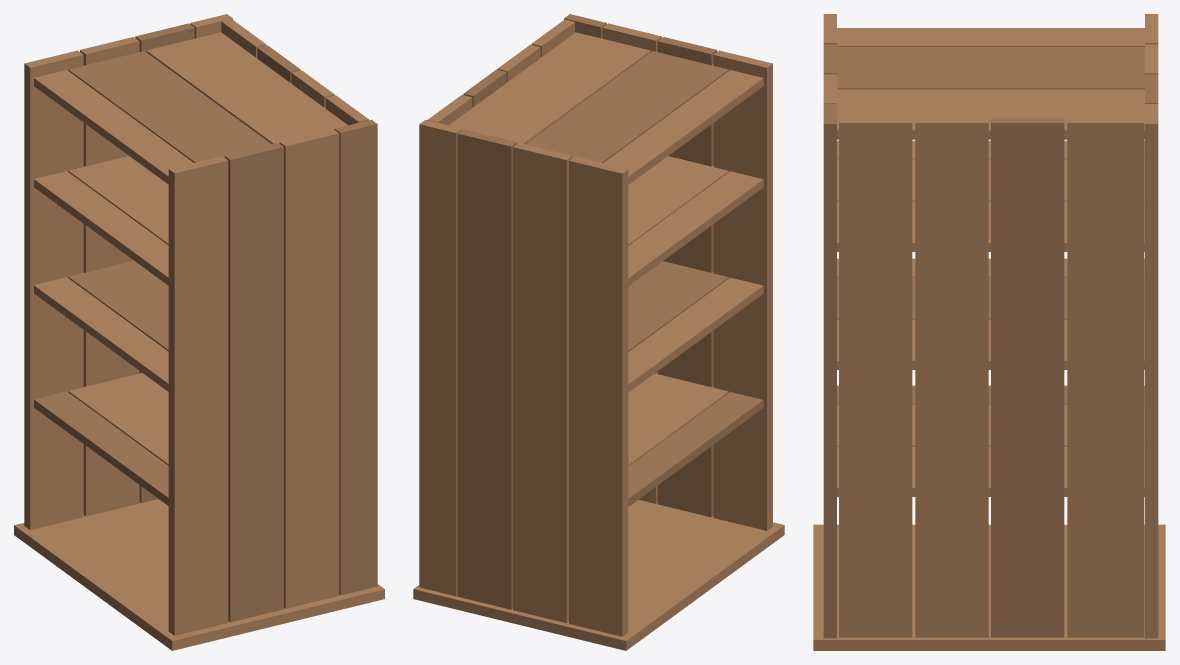
File: Scaffale bello.fbx
The picture shows the model from 3 angles, left to right: view 1: azimuth 30°, elevation 25°; view 2: azimuth 150°, elevation 25°; view 3: azimuth 270°, elevation 25°; orthographic projection. The views are drawn at different scales.
Visible parts, largest first — view 1: cupboard; view 2: cupboard; view 3: cupboard.
Boxes of the visible parts, left/top/right/bottom form: cupboard: left=14, top=14, right=384, bottom=650; cupboard: left=413, top=14, right=784, bottom=650; cupboard: left=813, top=14, right=1165, bottom=650.
Bounding box in the file's own units: 96.01 × 204 × 124.
1 material, 1 textured.
